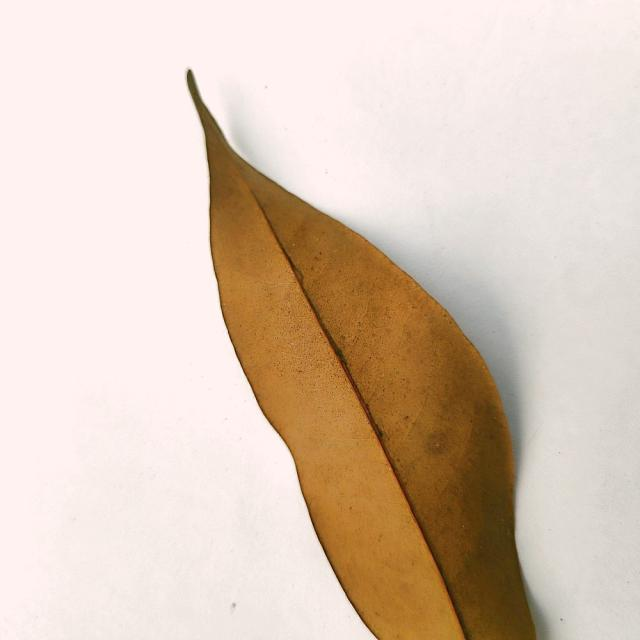Dry_Leaf-Lychee: (186, 72, 540, 639)
